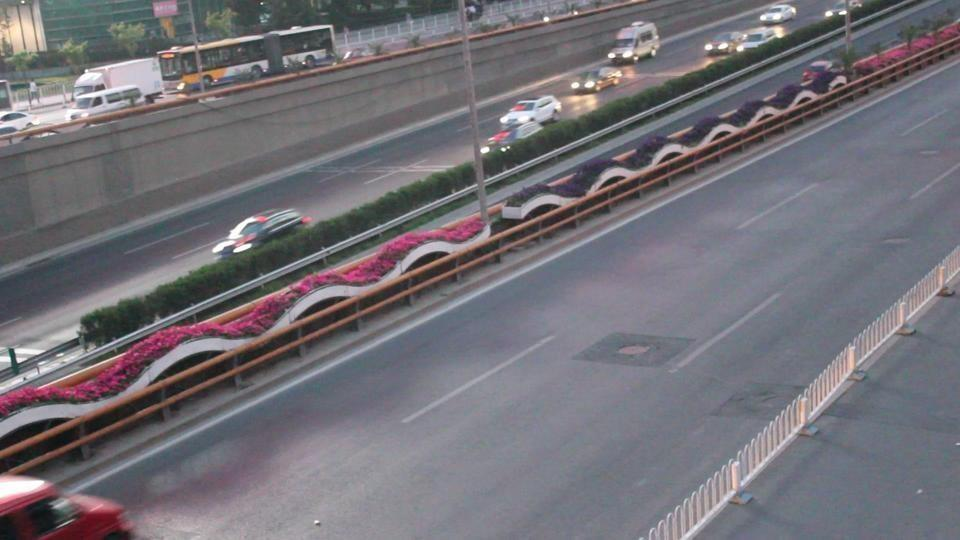car: (1, 473, 136, 538), (501, 157, 627, 222), (213, 208, 310, 259), (66, 85, 142, 119), (609, 20, 660, 63), (483, 118, 545, 151), (500, 96, 561, 127), (799, 59, 844, 91), (570, 67, 624, 93), (733, 29, 776, 52), (703, 32, 744, 55), (759, 2, 797, 24), (606, 42, 640, 64), (0, 110, 34, 131), (338, 44, 373, 62)
